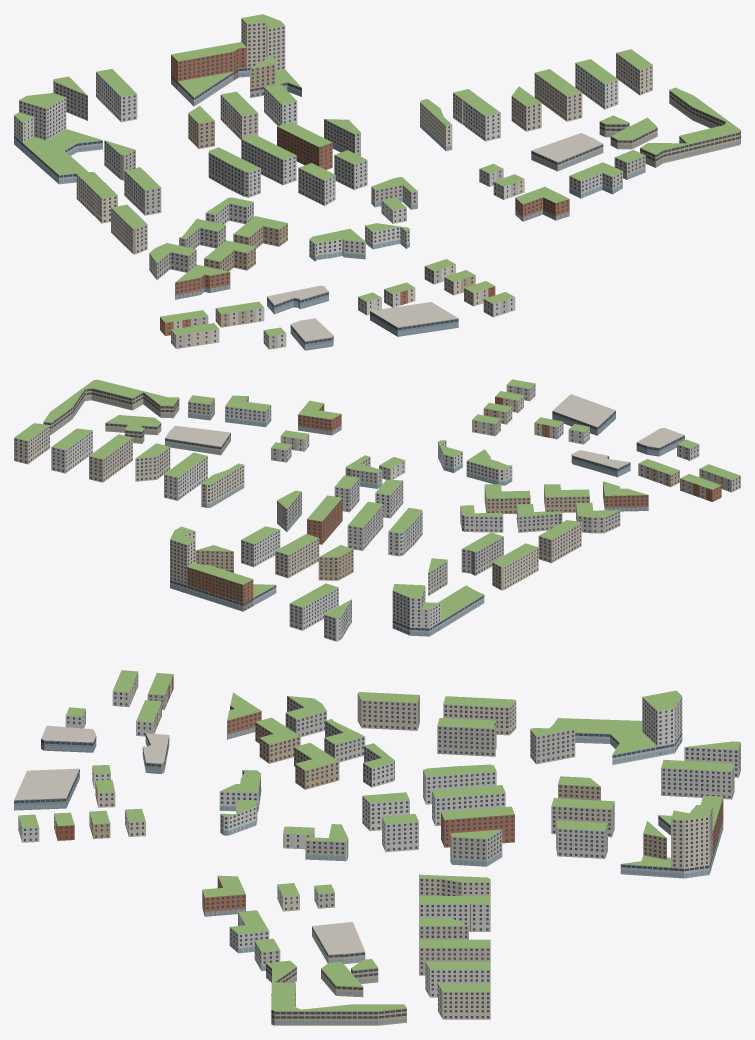
3 views of the same model, one above another, from view 1: azimuth 30°, elevation 25°; view 2: azimuth 150°, elevation 25°; view 3: azimuth 270°, elevation 25° (orthographic). The views are drawn at different scales.
Visible parts, largest first — view 1: S4_P2_wand, S4_P3_wand, S4_P1_wand, S4_P3_dach, S4_P3_fenster, S4_P1_dach, S4_P2_dach, S4_P4_wand, S4_P2_fenster, S4_P1_fenster, S4_P4_dach, S4_P4_fenster; view 2: S4_P2_wand, S4_P1_wand, S4_P3_wand, S4_P3_dach, S4_P3_fenster, S4_P2_dach, S4_P2_fenster, S4_P4_wand, S4_P1_fenster, S4_P1_dach, S4_P4_dach, S4_P4_fenster; view 3: S4_P2_wand, S4_P1_wand, S4_P3_wand, S4_P3_dach, S4_P2_dach, S4_P3_fenster, S4_P2_fenster, S4_P1_dach, S4_P1_fenster, S4_P4_dach, S4_P4_wand, S4_P4_fenster.
Boxes of the visible parts, left/top/right/bottom form: S4_P2_wand: left=76, top=53, right=652, bottom=254; S4_P3_wand: left=149, top=90, right=740, bottom=299; S4_P1_wand: left=14, top=18, right=301, bottom=184; S4_P3_dach: left=149, top=87, right=740, bottom=282; S4_P3_fenster: left=149, top=91, right=740, bottom=299; S4_P1_dach: left=14, top=14, right=301, bottom=174; S4_P2_dach: left=77, top=49, right=652, bottom=228; S4_P4_wand: left=160, top=264, right=515, bottom=350; S4_P2_fenster: left=77, top=54, right=651, bottom=252; S4_P1_fenster: left=14, top=19, right=301, bottom=183; S4_P4_dach: left=160, top=259, right=514, bottom=341; S4_P4_fenster: left=160, top=266, right=512, bottom=349; S4_P2_wand: left=14, top=425, right=581, bottom=590; S4_P1_wand: left=170, top=530, right=484, bottom=641; S4_P3_wand: left=43, top=388, right=648, bottom=533; S4_P3_dach: left=43, top=379, right=647, bottom=517; S4_P3_fenster: left=43, top=389, right=648, bottom=532; S4_P2_dach: left=14, top=423, right=581, bottom=566; S4_P2_fenster: left=15, top=426, right=580, bottom=588; S4_P4_wand: left=472, top=384, right=740, bottom=501; S4_P1_fenster: left=170, top=530, right=484, bottom=639; S4_P1_dach: left=170, top=526, right=483, bottom=620; S4_P4_dach: left=472, top=379, right=740, bottom=489; S4_P4_fenster: left=475, top=385, right=739, bottom=499; S4_P2_wand: left=357, top=694, right=516, bottom=1019; S4_P1_wand: left=530, top=696, right=740, bottom=878; S4_P3_wand: left=202, top=696, right=406, bottom=1025; S4_P3_dach: left=202, top=692, right=406, bottom=1010; S4_P2_dach: left=357, top=692, right=515, bottom=991; S4_P3_fenster: left=202, top=697, right=406, bottom=1024; S4_P2_fenster: left=358, top=695, right=515, bottom=1018; S4_P1_dach: left=530, top=690, right=740, bottom=867; S4_P1_fenster: left=530, top=698, right=740, bottom=878; S4_P4_dach: left=14, top=670, right=173, bottom=827; S4_P4_wand: left=14, top=672, right=173, bottom=842; S4_P4_fenster: left=14, top=675, right=172, bottom=841.
Bounding box in the file's own units: 518 × 41.4 × 467.
